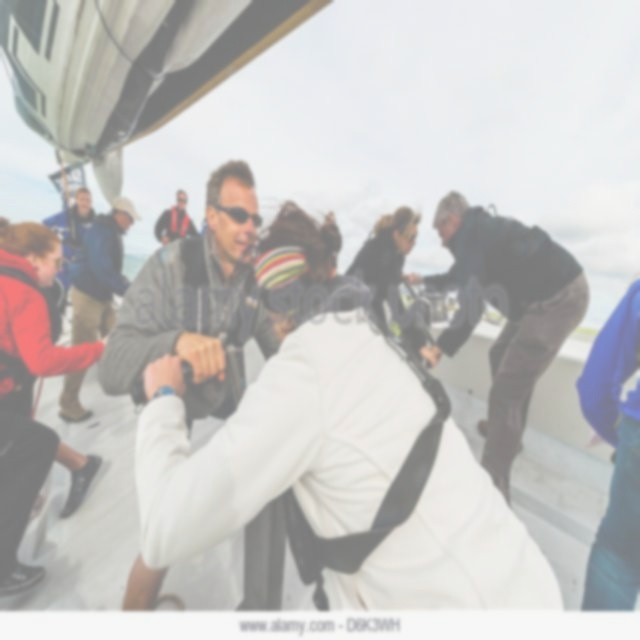pessoa: (132, 198, 568, 639), (96, 159, 281, 613), (409, 185, 590, 532), (0, 215, 111, 597), (573, 269, 639, 612), (55, 196, 143, 428), (343, 204, 439, 370), (37, 185, 99, 320), (16, 432, 103, 524), (153, 188, 201, 247), (315, 208, 345, 278)
